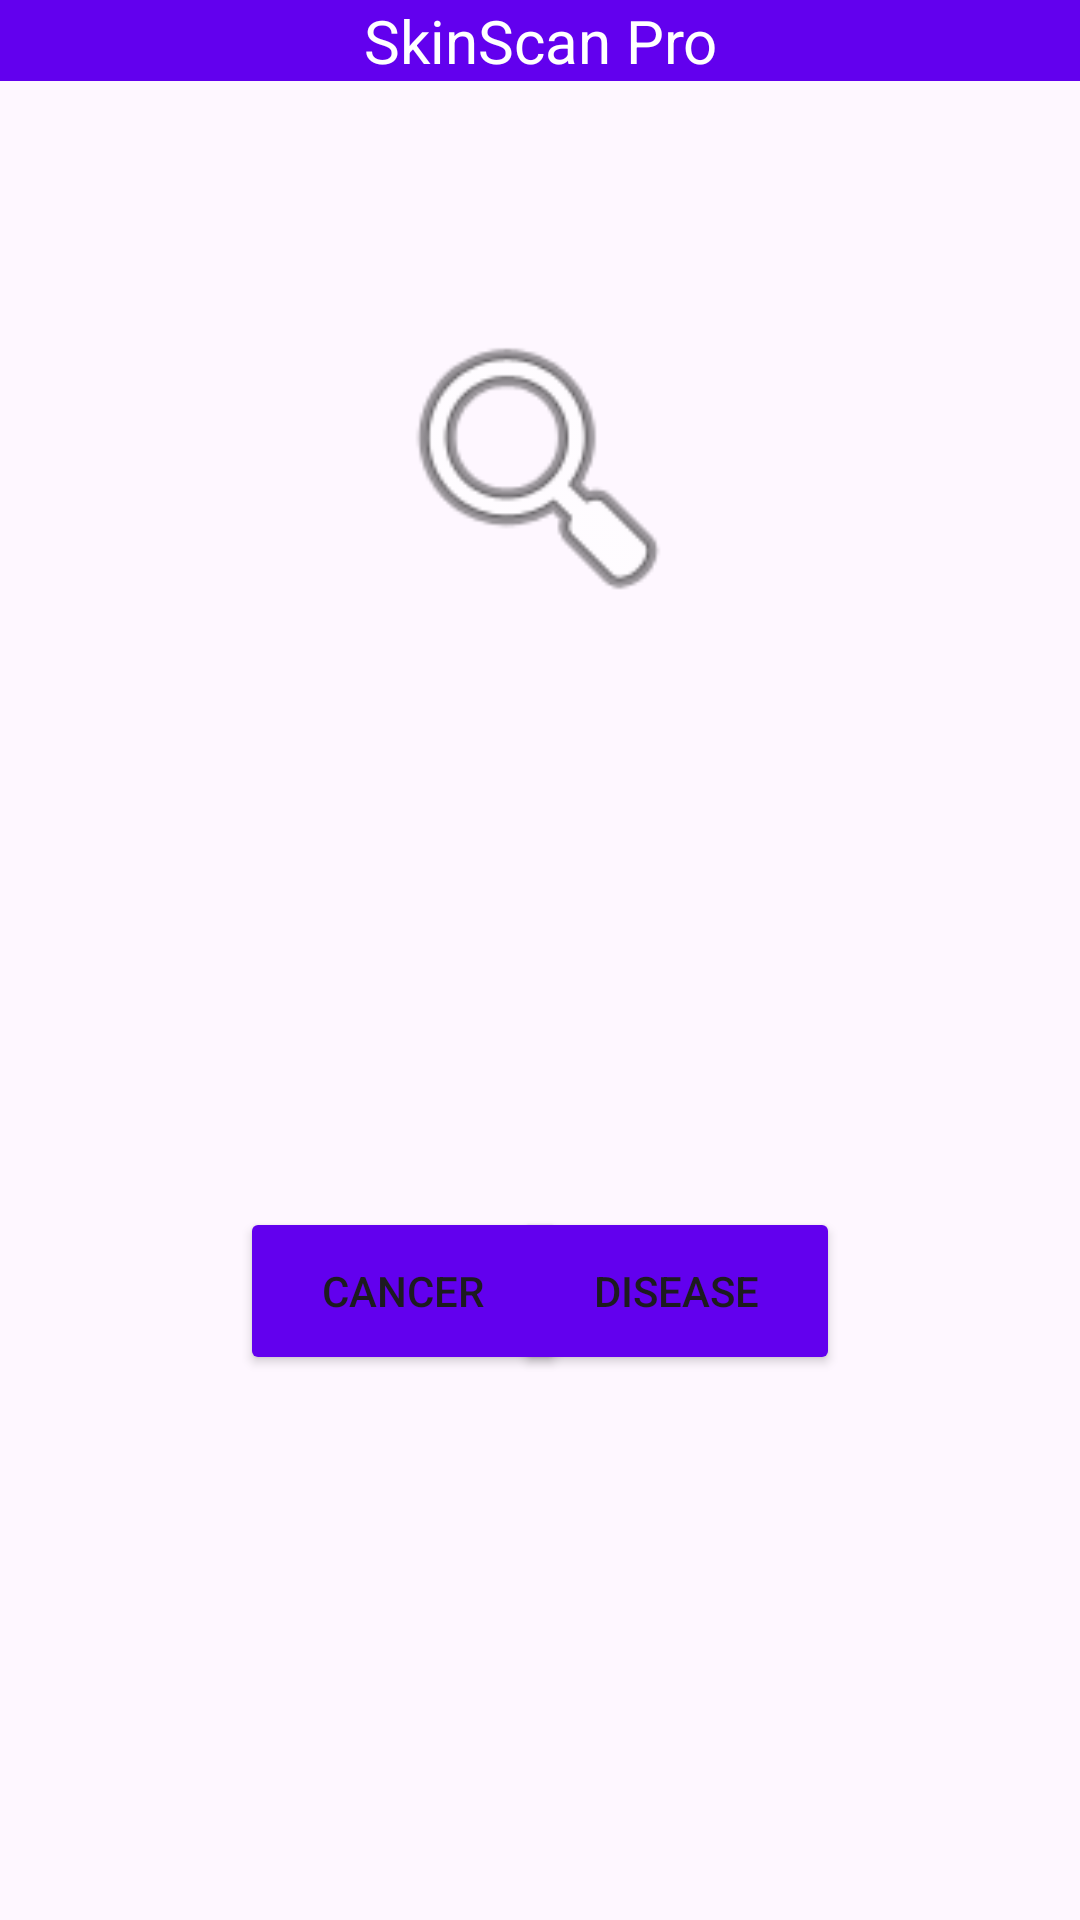

Where icons sit on this 1080 × 1920 app screen, as (x1,y1,x2,y2):
search: (418,348,658,589)
